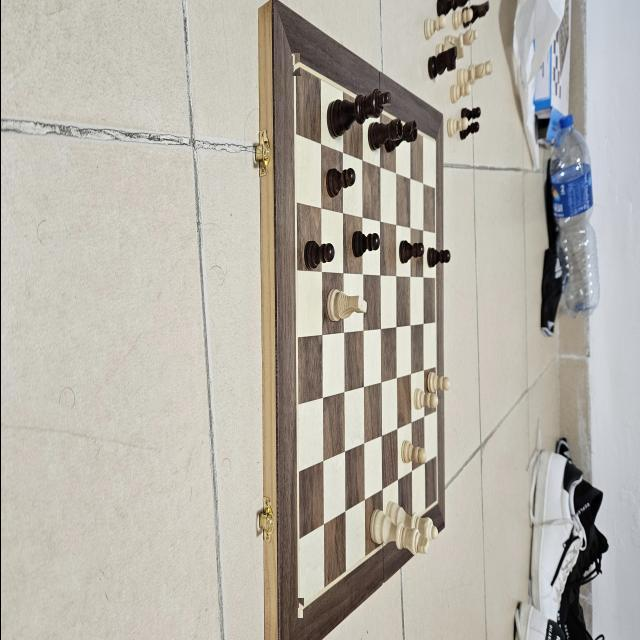chess-table-corners: (290, 53, 300, 76), (294, 598, 302, 618), (434, 496, 438, 508), (432, 135, 436, 146)
